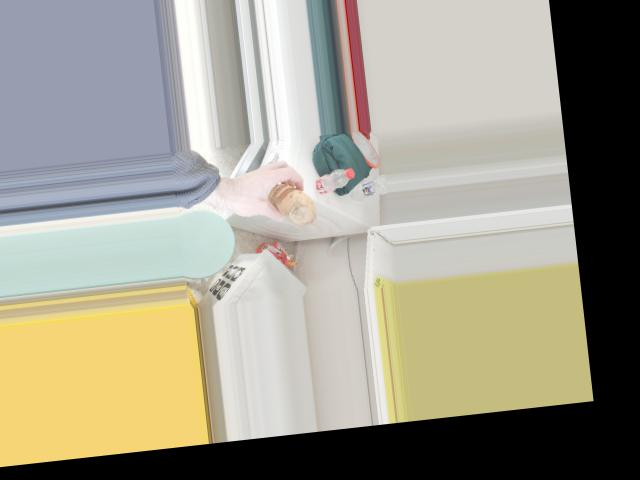sweet_potato: (264, 180, 315, 226)
